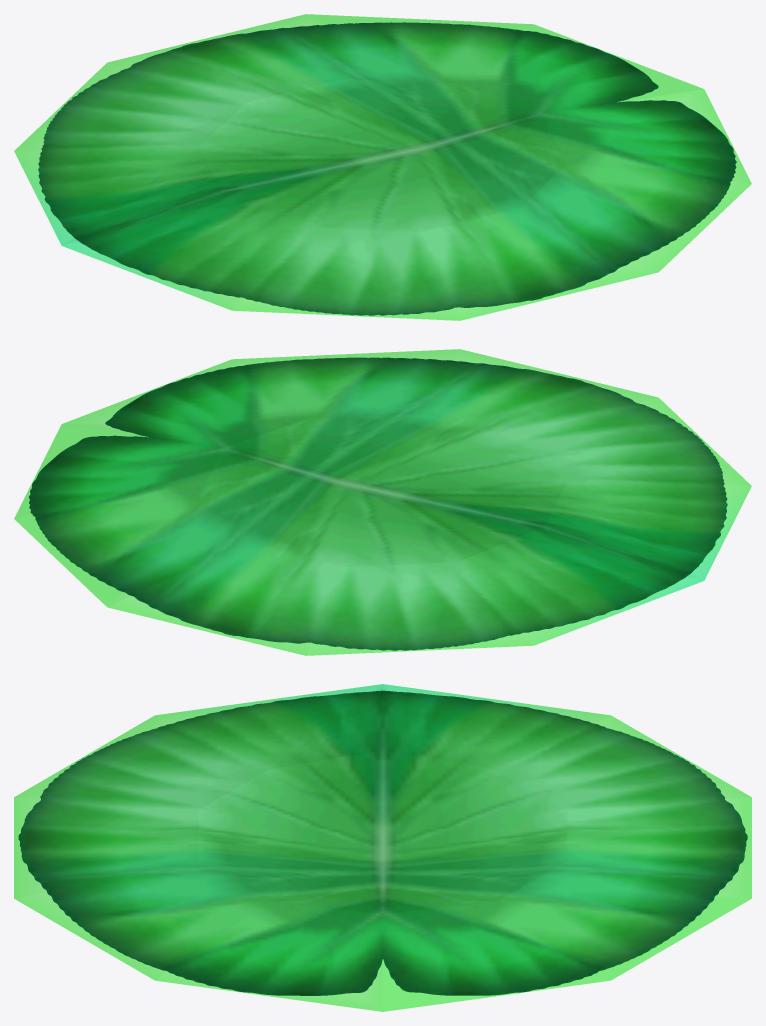
The model's file is leafboat_bake.dae.
3 renders of one model, top to bottom at view 1: azimuth 30°, elevation 25°; view 2: azimuth 150°, elevation 25°; view 3: azimuth 270°, elevation 25°, orthographic. The views are drawn at different scales.
Visible parts, largest first — view 1: m0, m0_VC; view 2: m0, m0_VC; view 3: m0, m0_VC.
Boxes of the visible parts, x1,y1,x2,y2 form: m0: [38, 22, 736, 315]; m0_VC: [14, 14, 751, 320]; m0: [29, 357, 727, 650]; m0_VC: [14, 349, 751, 655]; m0: [18, 690, 747, 995]; m0_VC: [14, 684, 751, 1011].
Size of the model in its own units: 529 by 11.83 by 503.
2 materials, 2 textured.
